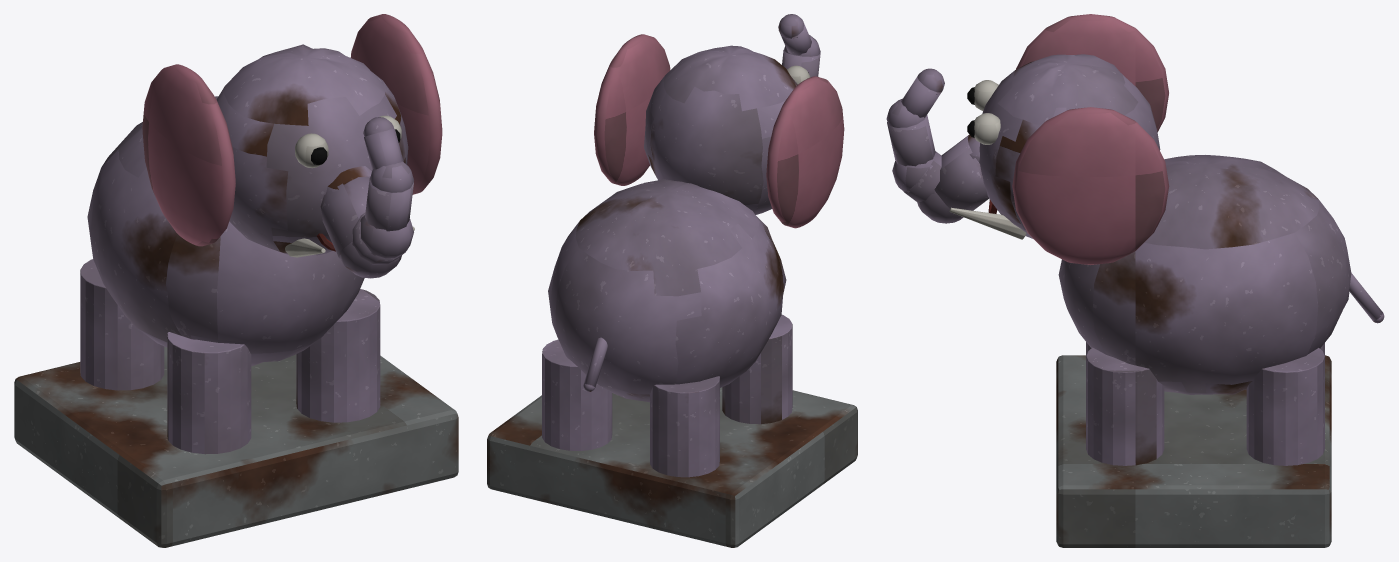
Rendered from F35_mascot_statue_rangu.glb.
3 renders of one model, left to right at view 1: azimuth 30°, elevation 25°; view 2: azimuth 150°, elevation 25°; view 3: azimuth 270°, elevation 25°, orthographic. The views are drawn at different scales.
Visible parts, largest first — view 1: F35_mascot_statue_rangu; view 2: F35_mascot_statue_rangu; view 3: F35_mascot_statue_rangu.
Part boxes in pixels (left/top/right/bottom): F35_mascot_statue_rangu: left=14, top=14, right=458, bottom=547; F35_mascot_statue_rangu: left=487, top=14, right=857, bottom=547; F35_mascot_statue_rangu: left=886, top=14, right=1384, bottom=547.
Bounding box in the file's own units: 1.61 × 2.34 × 2.5.
Materials: 6 (6 with a texture image).
